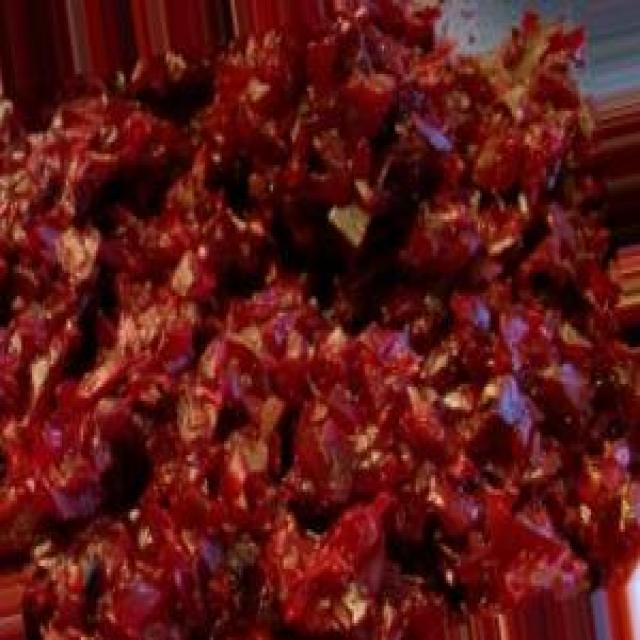healthy coral: (14, 7, 640, 638)
